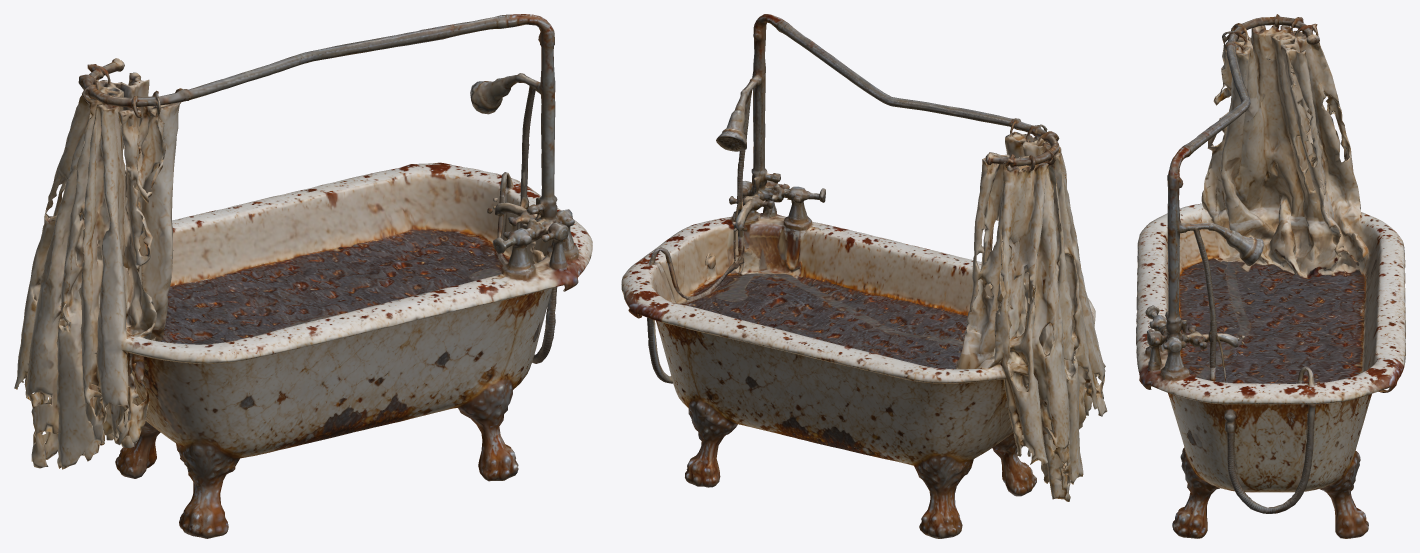
The model's file is Bathtub.fbx.
The picture shows the model from 3 angles, left to right: view 1: azimuth 30°, elevation 25°; view 2: azimuth 150°, elevation 25°; view 3: azimuth 270°, elevation 25°; orthographic projection. The views are drawn at different scales.
Parts seen in each view (by area): view 1: texture_mapping; view 2: texture_mapping; view 3: texture_mapping.
Part boxes in pixels (box(x1,y1,x2,y2)): texture_mapping: box(14, 14, 592, 538); texture_mapping: box(621, 14, 1107, 538); texture_mapping: box(1136, 14, 1405, 538).
Size of the model in its own units: 0.9989 by 0.5474 by 0.8714.
Materials: 1 (1 with a texture image).
